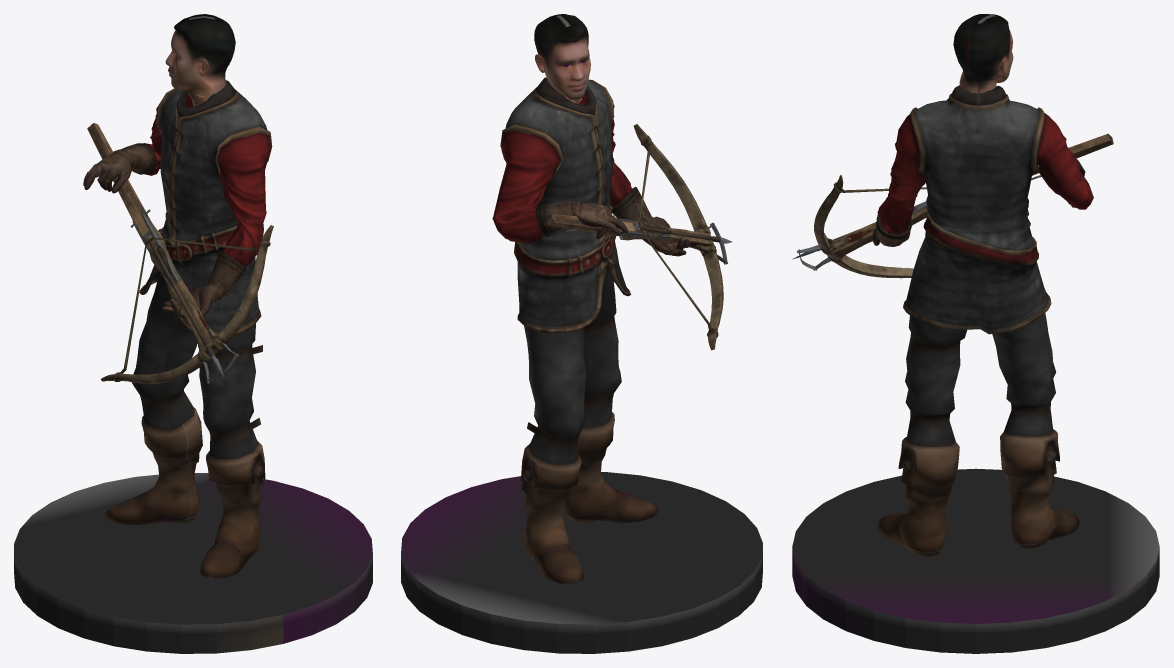
The picture shows the model from 3 angles, left to right: view 1: azimuth 30°, elevation 25°; view 2: azimuth 150°, elevation 25°; view 3: azimuth 270°, elevation 25°; orthographic projection. The views are drawn at different scales.
Parts seen in each view (by area): view 1: bolt.smd; view 2: bolt.smd; view 3: bolt.smd.
Part boxes in pixels (<box>): bolt.smd: <box>14,14,372,653</box>; bolt.smd: <box>401,14,762,653</box>; bolt.smd: <box>792,14,1159,653</box>.
Size of the model in its own units: 1 by 1.7 by 1.
1 material, 1 textured.
